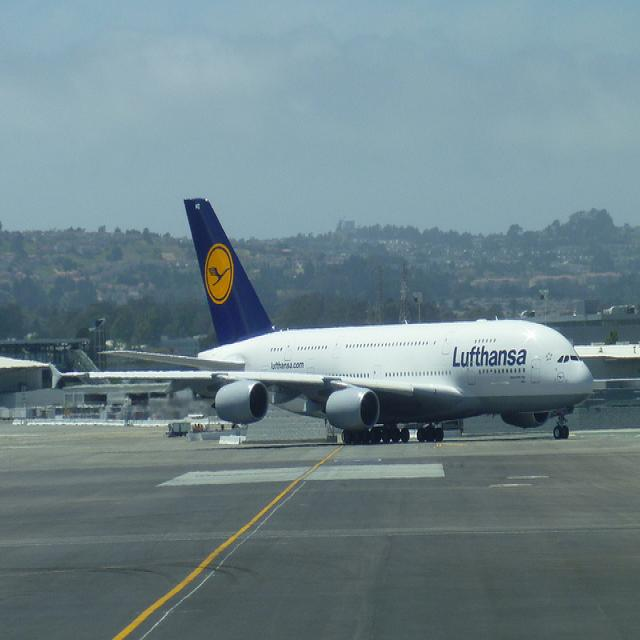airplane: (51, 197, 596, 446)
